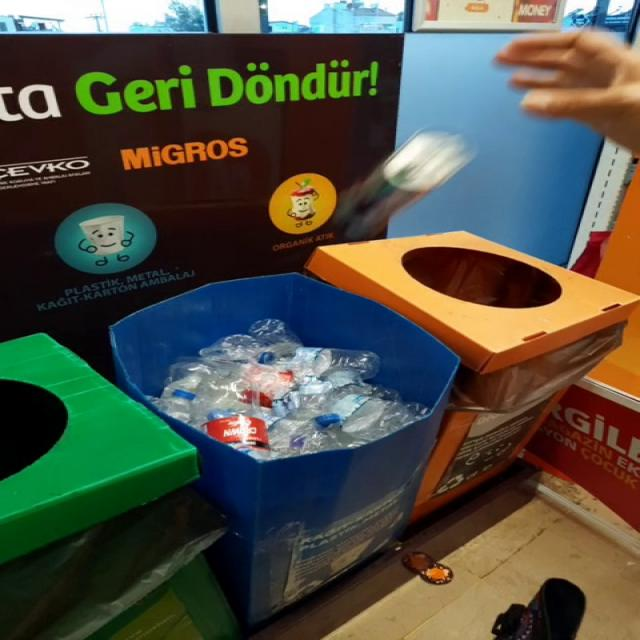bin: (111, 232, 638, 626)
metal: (333, 130, 475, 241)
